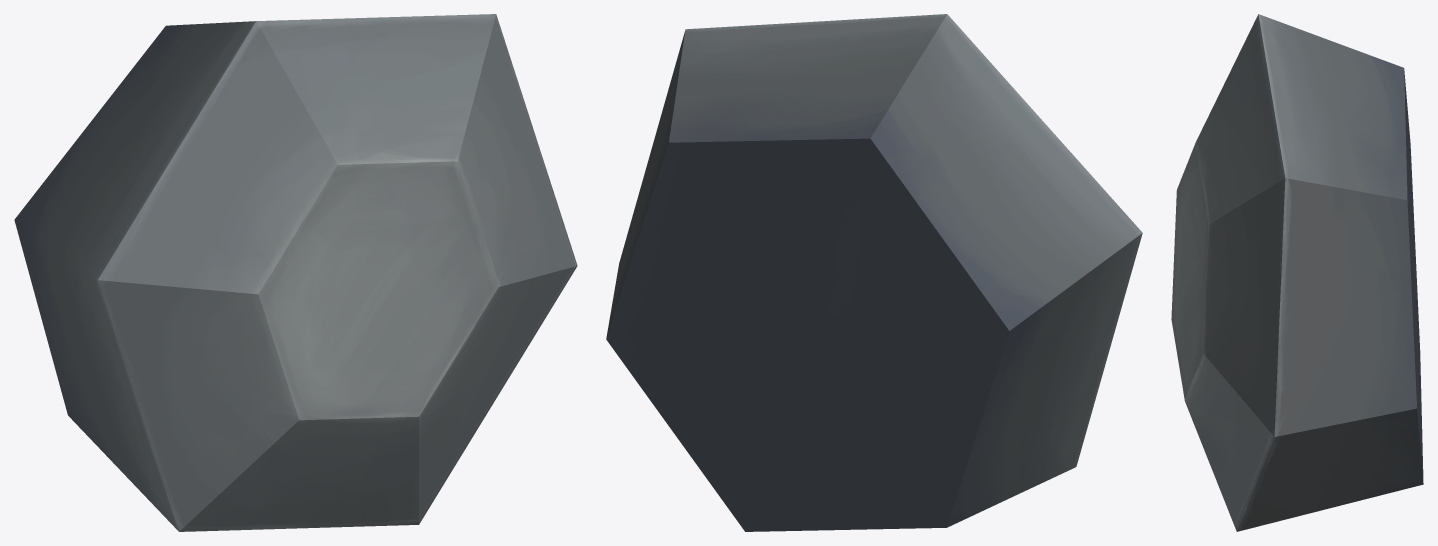
Rendered from Rock2.fbx.
3 renders of one model, left to right at view 1: azimuth 30°, elevation 25°; view 2: azimuth 150°, elevation 25°; view 3: azimuth 270°, elevation 25°, orthographic. The views are drawn at different scales.
Visible parts, largest first — view 1: Rock2; view 2: Rock2; view 3: Rock2.
Boxes of the visible parts, left/top/right/bottom form: Rock2: left=14, top=14, right=577, bottom=531; Rock2: left=606, top=14, right=1142, bottom=531; Rock2: left=1171, top=14, right=1423, bottom=531.
Size of the model in its own units: 916 by 909 by 456.
Materials: 1 (1 with a texture image).
